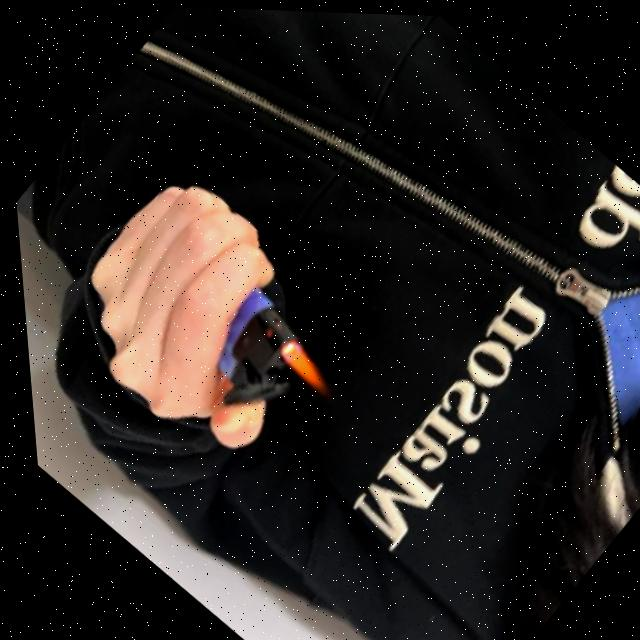Fire: (265, 332, 335, 397)
